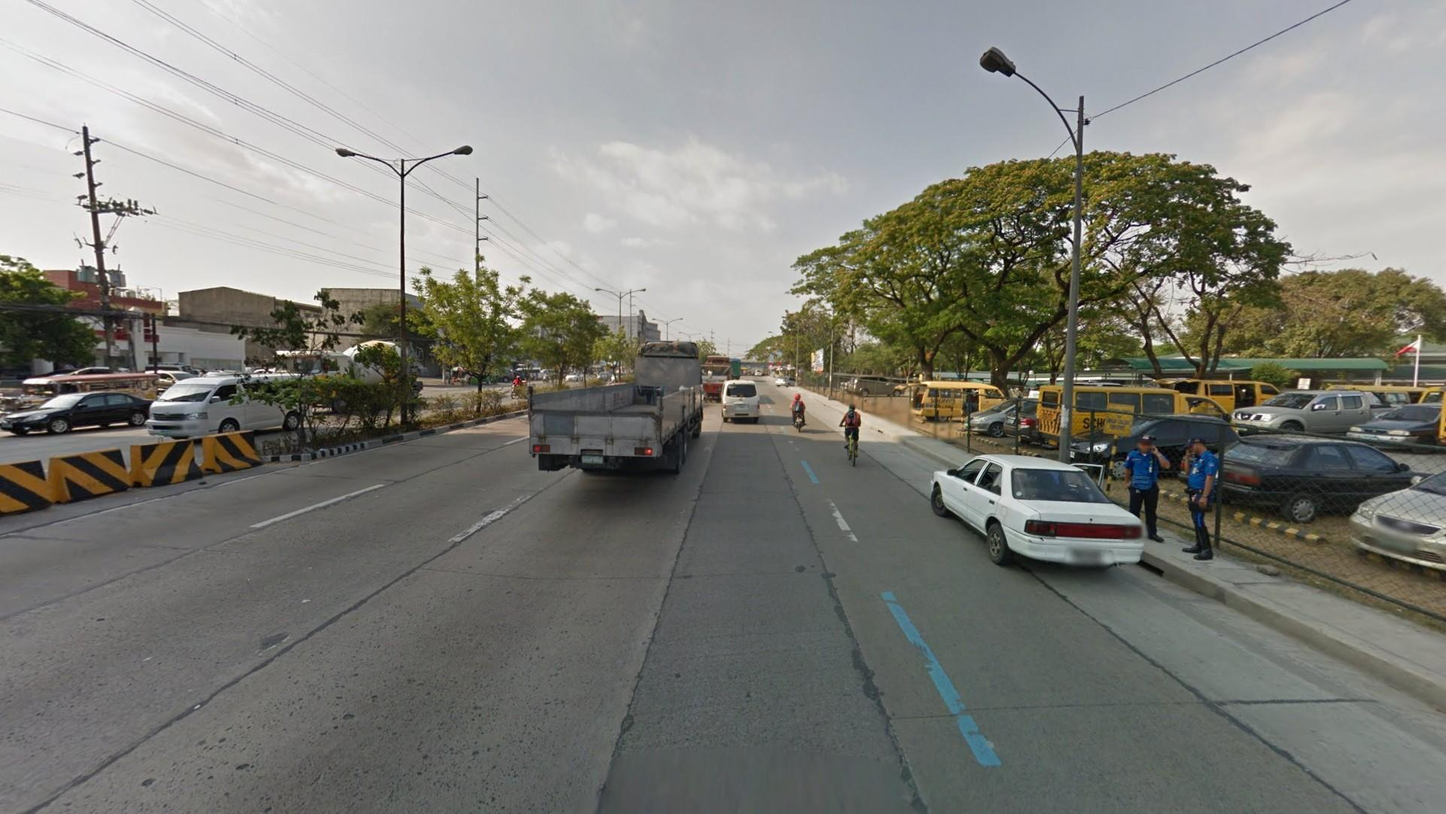cyclist: (838, 403, 861, 468)
pedestrian: (1123, 433, 1172, 545), (1180, 435, 1219, 561), (772, 370, 776, 379)
